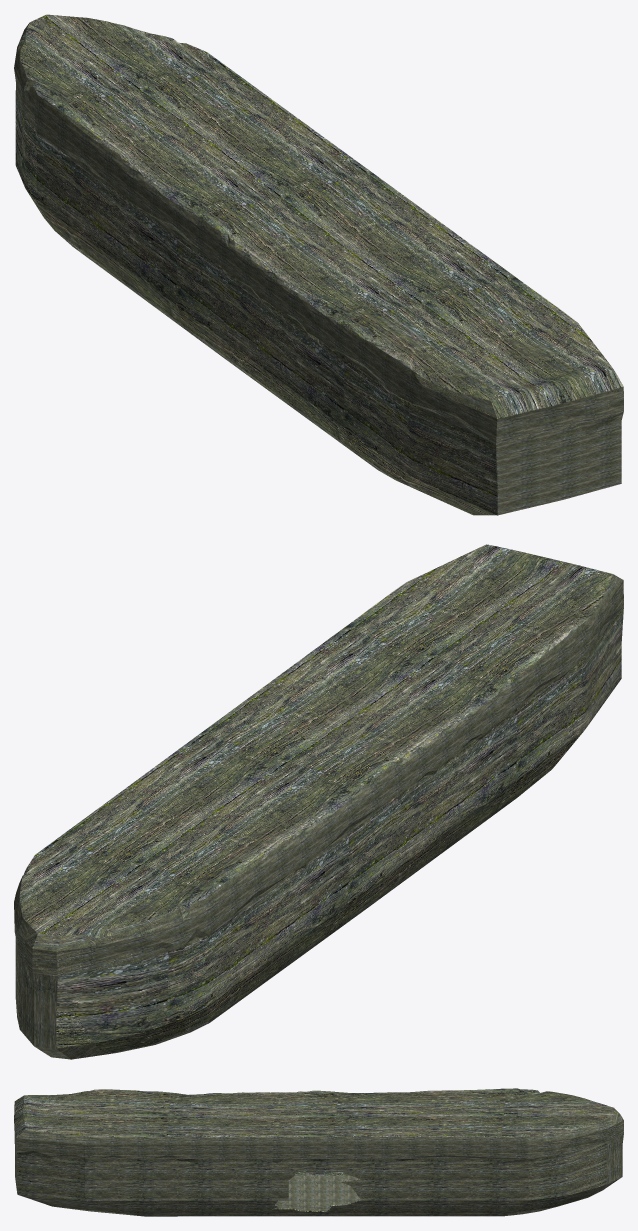
The model's file is ship1.fbx.
3 views of the same model, one above another, from view 1: azimuth 30°, elevation 25°; view 2: azimuth 150°, elevation 25°; view 3: azimuth 270°, elevation 25° (orthographic). The views are drawn at different scales.
Visible parts, largest first — view 1: Plane; view 2: Plane; view 3: Plane.
Boxes of the visible parts, bbox=[...] form: Plane: bbox=[14, 14, 623, 515]; Plane: bbox=[14, 544, 623, 1059]; Plane: bbox=[14, 1088, 623, 1216].
Size of the model in its own units: 68.35 by 62.28 by 348.
Materials: 1 (1 with a texture image).
